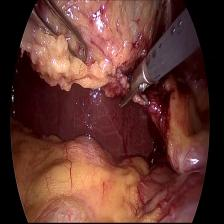Grasper: (32, 0, 87, 68)
Scissors: (116, 49, 153, 114)
